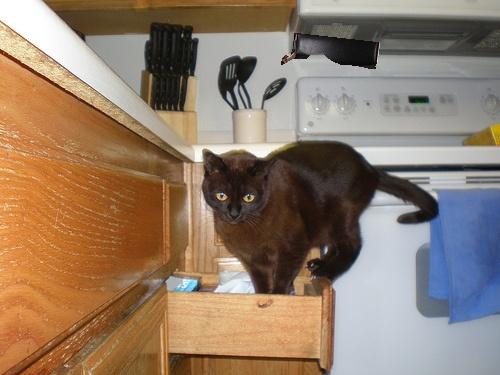tampered: (282, 34, 380, 69)
